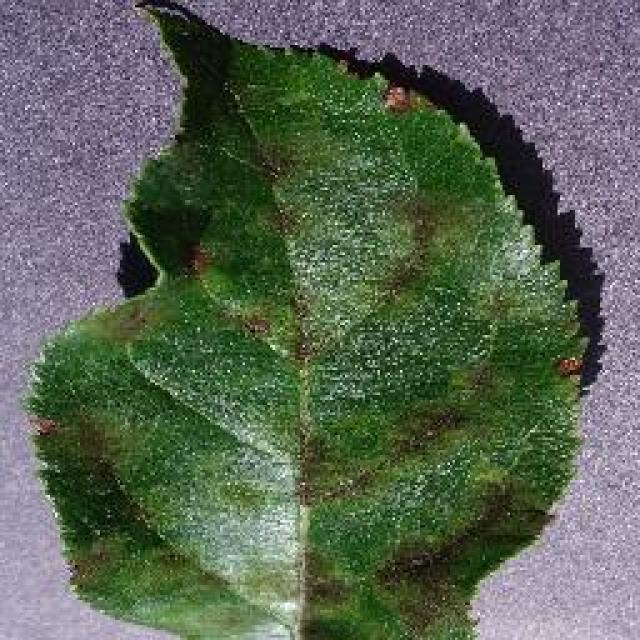apple scab disease: (22, 0, 592, 638)
